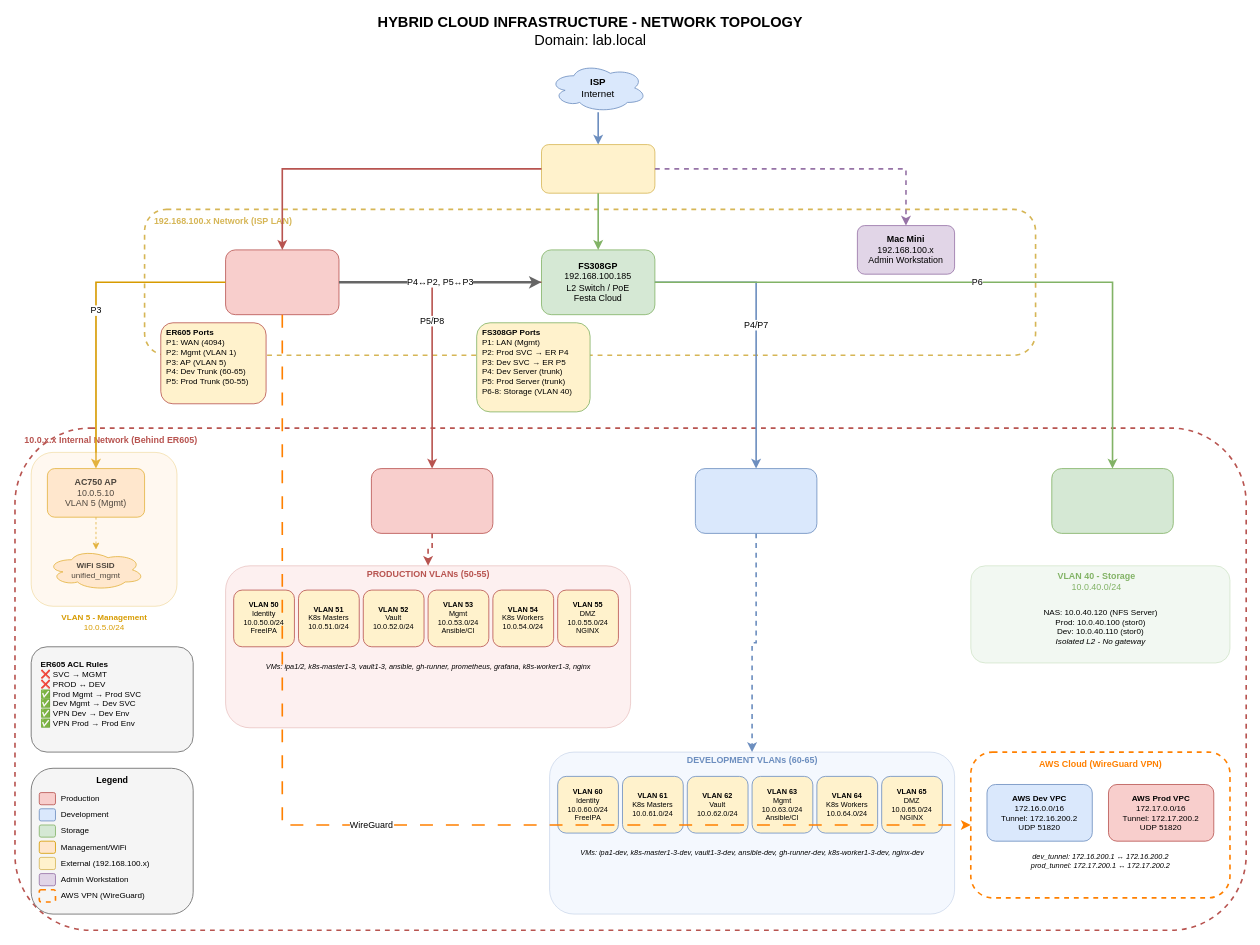
Image size: 1260x945. Some labels were removed from this diagram. The centre of each missing label's shape, as x and y in pixels:
DEV SERVER Asus Vivobook 15 Proxmox VE 10.0.5.110 (mgmt): point (756, 500)
ER605 WAN: 192.168.100.175 LAN: 10.0.x.1 Firewall/Router: point (282, 282)
ISP Router 192.168.100.1 Gateway: point (598, 168)
NAS ASUSTOR FS6706T 10.0.5.120 (mgmt) 10.0.40.120 (stor): point (1112, 500)
PROD SERVER Asus TUF Gaming A15 Proxmox VE 10.0.5.100 (mgmt): point (432, 500)
